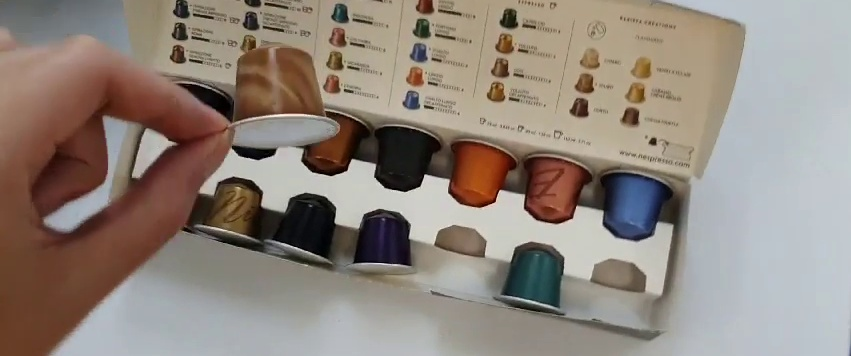capsule_12: (225, 45, 344, 158)
